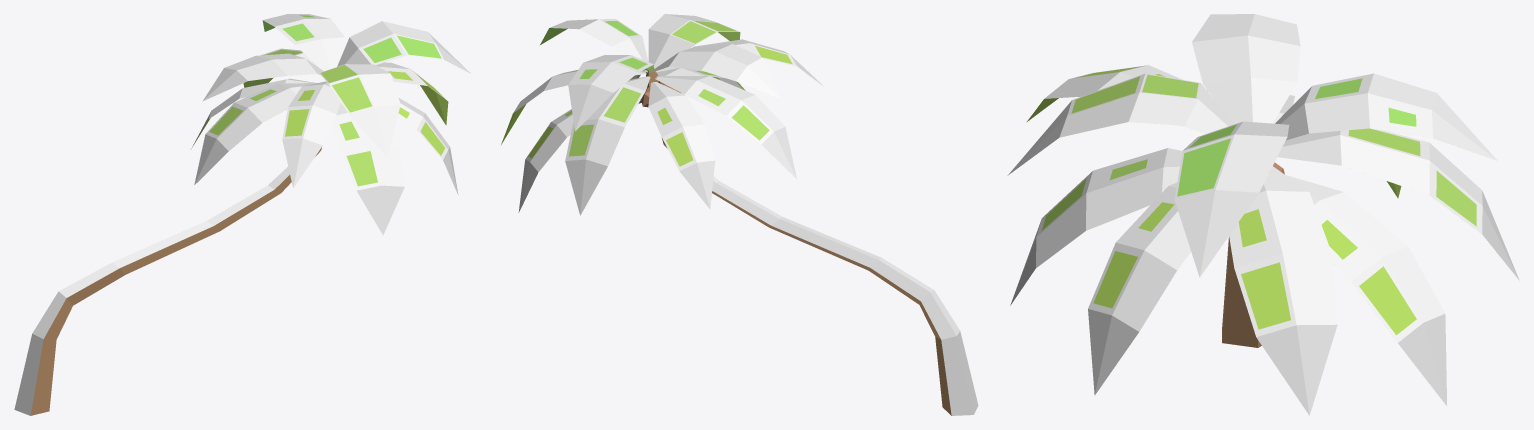
File: Palm_Tree_Coconut_l_Snow_05_LOD.fbx
3 renders of one model, left to right at view 1: azimuth 30°, elevation 25°; view 2: azimuth 150°, elevation 25°; view 3: azimuth 270°, elevation 25°, orthographic. The views are drawn at different scales.
Visible parts, largest first — view 1: Palm_Tree_Coconut_l_Snow_05_LOD0; view 2: Palm_Tree_Coconut_l_Snow_05_LOD0; view 3: Palm_Tree_Coconut_l_Snow_05_LOD0.
Part boxes in pixels (left/top/right/bottom): Palm_Tree_Coconut_l_Snow_05_LOD0: left=14, top=14, right=470, bottom=415; Palm_Tree_Coconut_l_Snow_05_LOD0: left=501, top=14, right=978, bottom=415; Palm_Tree_Coconut_l_Snow_05_LOD0: left=1007, top=14, right=1519, bottom=415.
Size of what is drawn, in the model's own units: 756 by 470 by 434.
